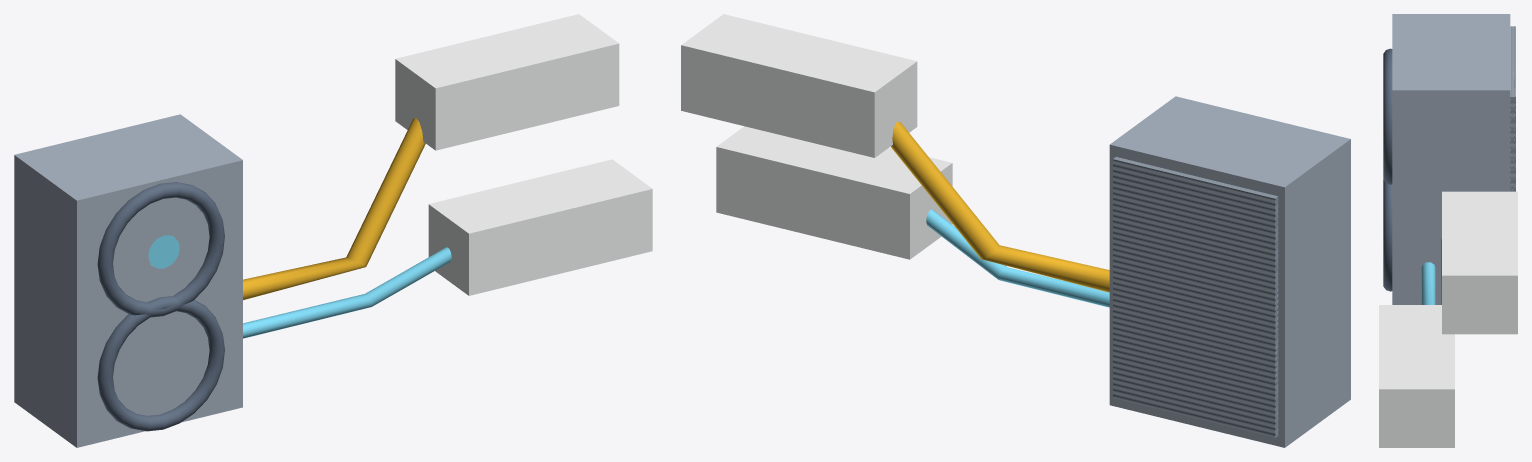
File: hvac-vrf.glb
3 views of the same model, side by side, from view 1: azimuth 30°, elevation 25°; view 2: azimuth 150°, elevation 25°; view 3: azimuth 270°, elevation 25° (orthographic). The views are drawn at different scales.
Parts seen in each view (by area): view 1: Outdoor_Case, Indoor_Fancoil_1, Indoor_Fancoil_2, Fan_Shroud_Top, Copper_Suction, Fan_Shroud_Bot, Copper_Liquid, Fan_Hub_Top; view 2: Condenser_Fins, Outdoor_Case, Indoor_Fancoil_1, Indoor_Fancoil_2, Copper_Suction, Copper_Liquid; view 3: Outdoor_Case, Indoor_Fancoil_1, Indoor_Fancoil_2, Fan_Shroud_Top, Fan_Shroud_Bot, Condenser_Fins, Copper_Liquid.
Boxes of the visible parts, x1,y1,x2,y2 form: Outdoor_Case: [14, 114, 242, 447]; Indoor_Fancoil_1: [395, 14, 619, 150]; Indoor_Fancoil_2: [428, 159, 652, 295]; Fan_Shroud_Top: [97, 182, 224, 317]; Copper_Suction: [243, 117, 425, 300]; Fan_Shroud_Bot: [97, 296, 224, 431]; Copper_Liquid: [243, 247, 451, 338]; Fan_Hub_Top: [148, 235, 179, 268]; Condenser_Fins: [1113, 157, 1278, 437]; Outdoor_Case: [1109, 96, 1350, 447]; Indoor_Fancoil_1: [681, 14, 917, 157]; Indoor_Fancoil_2: [716, 126, 952, 259]; Copper_Suction: [890, 122, 1109, 292]; Copper_Liquid: [926, 209, 1109, 307]; Outdoor_Case: [1392, 14, 1510, 304]; Indoor_Fancoil_1: [1442, 191, 1517, 334]; Indoor_Fancoil_2: [1379, 305, 1454, 447]; Fan_Shroud_Top: [1383, 48, 1392, 184]; Fan_Shroud_Bot: [1383, 180, 1392, 291]; Condenser_Fins: [1510, 26, 1515, 191]; Copper_Liquid: [1421, 262, 1435, 304].
Bounding box in the file's own units: 3.25 × 1.36 × 0.73.
9 materials, 1 textured.
